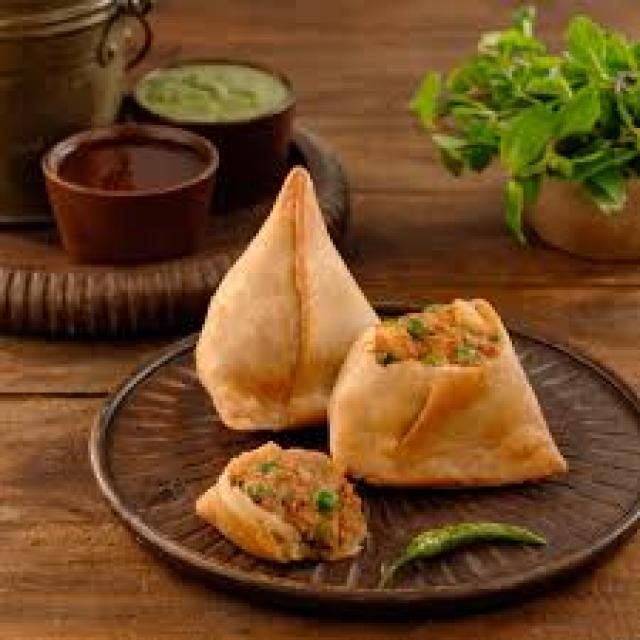SAMOSA: (196, 168, 375, 430), (330, 299, 566, 484), (196, 441, 361, 560)
